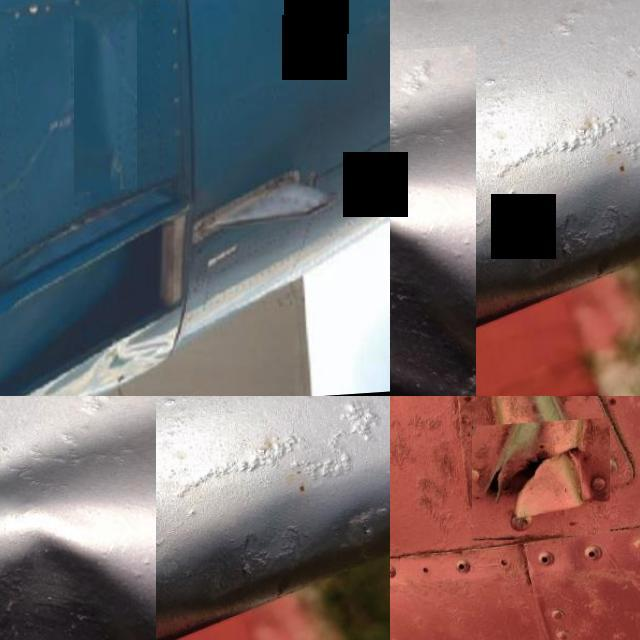Crack: (390, 160, 482, 353), (472, 422, 610, 546), (57, 480, 162, 640)
Dent: (0, 396, 155, 640), (390, 49, 475, 396), (74, 19, 136, 195)
